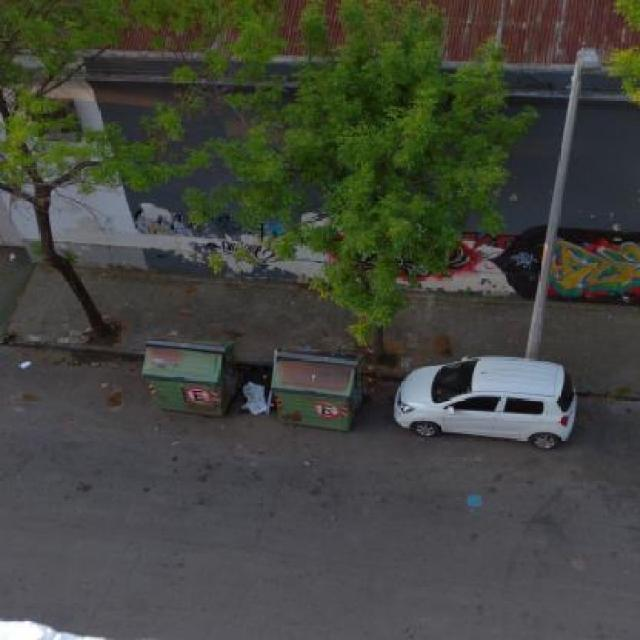garbage: (225, 362, 290, 424)
